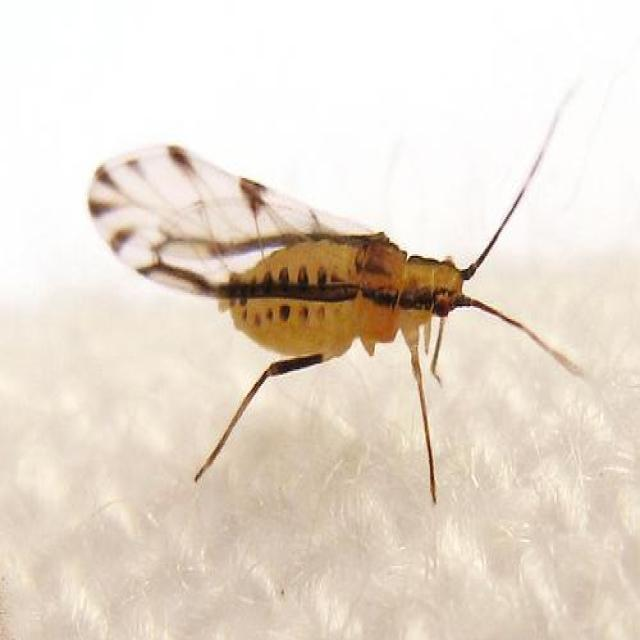Aphids: (86, 114, 598, 524)
